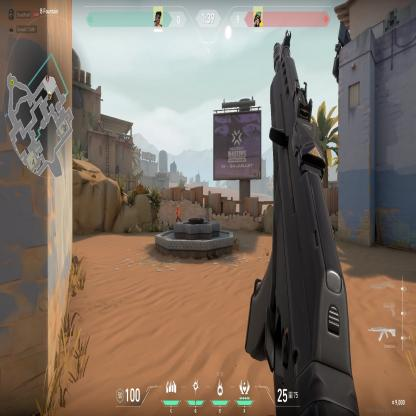enemy: (174, 204, 182, 222)
